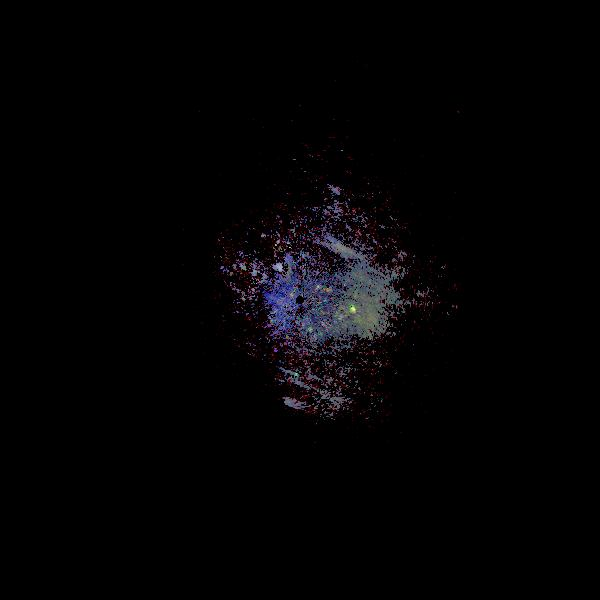roost: (349, 307, 358, 316)
